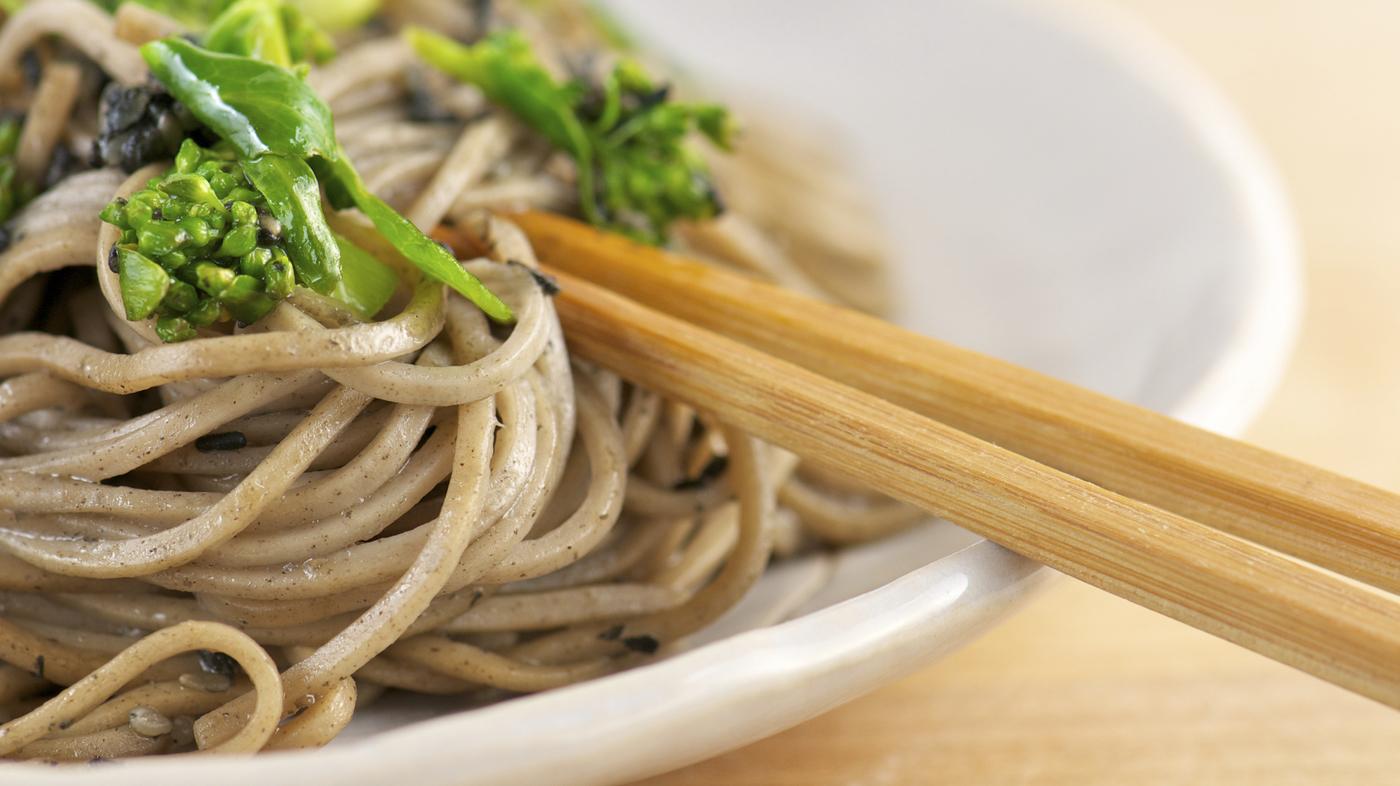Soba: (2, 3, 880, 740)
